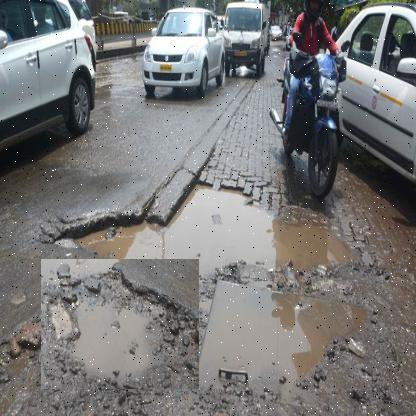pothole: (51, 156, 373, 309), (41, 259, 200, 390)
